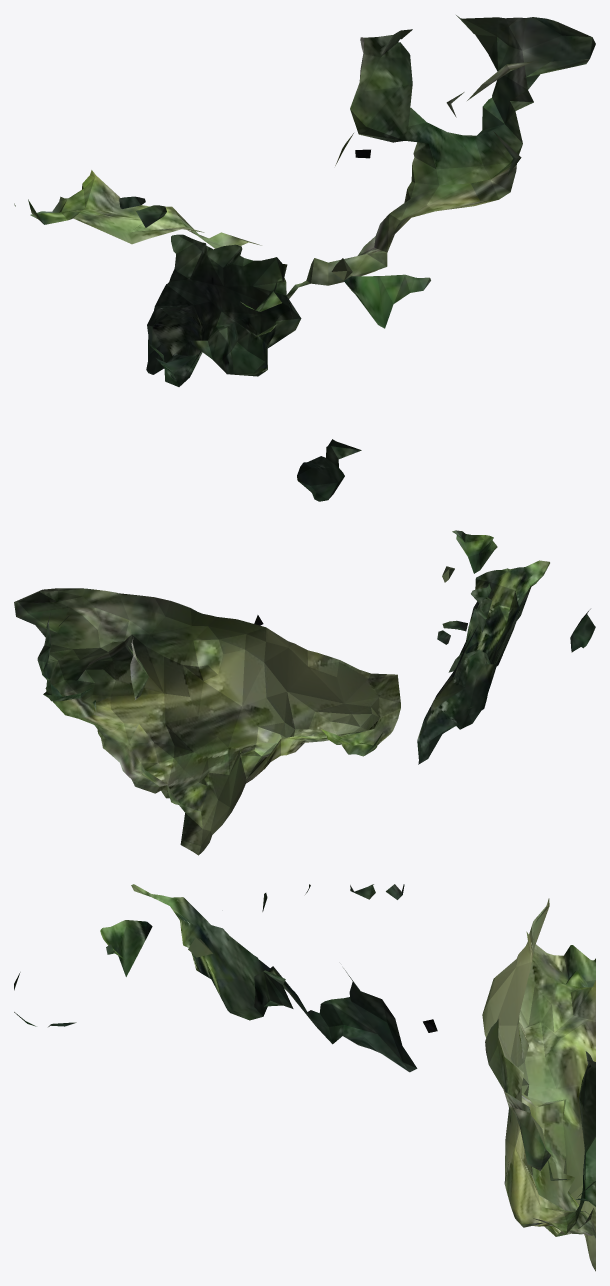
The picture shows the model from 3 angles, top to bottom: view 1: azimuth 30°, elevation 25°; view 2: azimuth 150°, elevation 25°; view 3: azimuth 270°, elevation 25°; orthographic projection. The views are drawn at different scales.
Size of the model in its own units: 25.97 by 13.45 by 26.11.
Materials: 2 (2 with a texture image).
